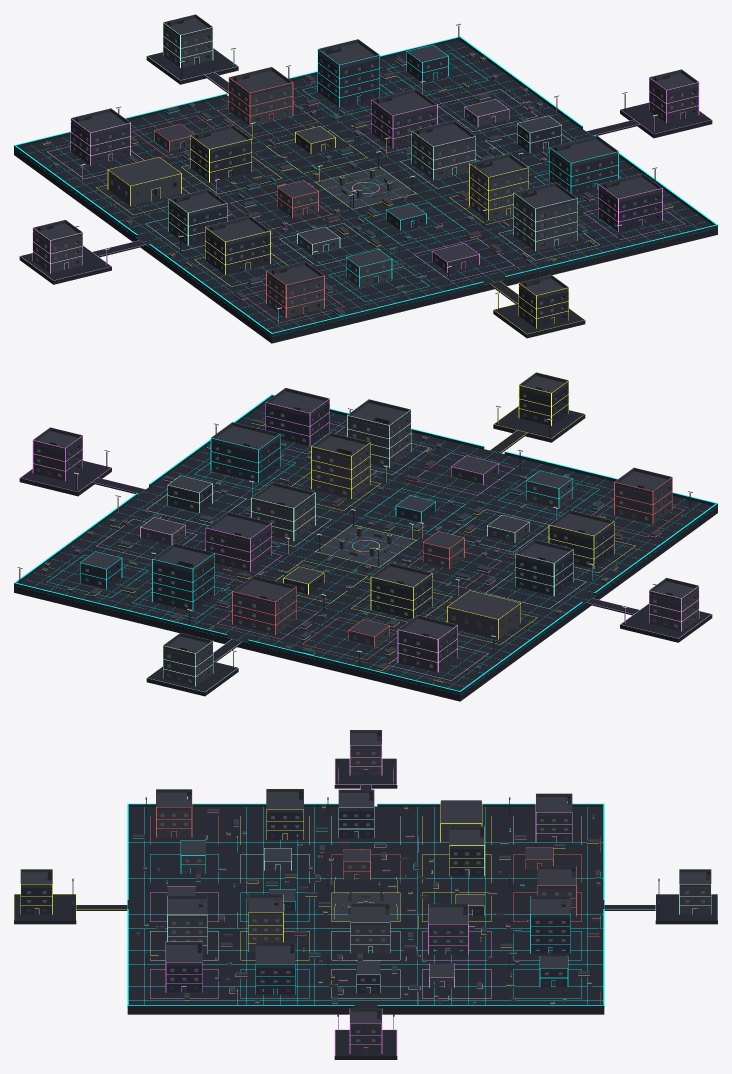
3 renders of one model, top to bottom at view 1: azimuth 30°, elevation 25°; view 2: azimuth 150°, elevation 25°; view 3: azimuth 270°, elevation 25°, orthographic. The views are drawn at different scales.
Visible parts, largest first — view 1: Ground, Buildings, Trim, Cover; view 2: Ground, Buildings, Trim, Cover; view 3: Ground, Buildings, Trim, Cover.
Boxes of the visible parts, x1,y1,x2,y2 form: Ground: [14, 40, 717, 343]; Buildings: [14, 14, 717, 336]; Trim: [14, 17, 717, 334]; Cover: [42, 53, 683, 316]; Ground: [14, 403, 717, 701]; Buildings: [14, 372, 717, 694]; Trim: [14, 372, 717, 692]; Cover: [42, 419, 661, 684]; Ground: [14, 758, 717, 1059]; Buildings: [20, 730, 711, 1053]; Trim: [14, 730, 717, 1055]; Cover: [36, 769, 695, 1049].
Bounding box in the file's own units: 248 × 17.9 × 248.
